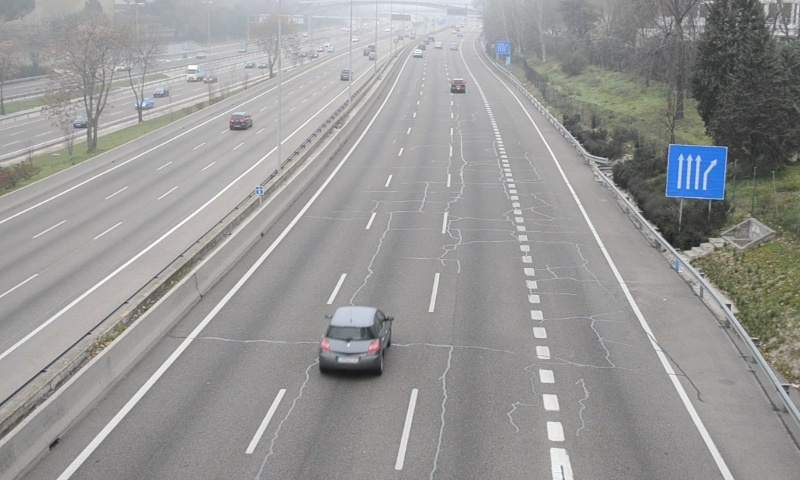car: (319, 307, 388, 373), (450, 78, 465, 93)
